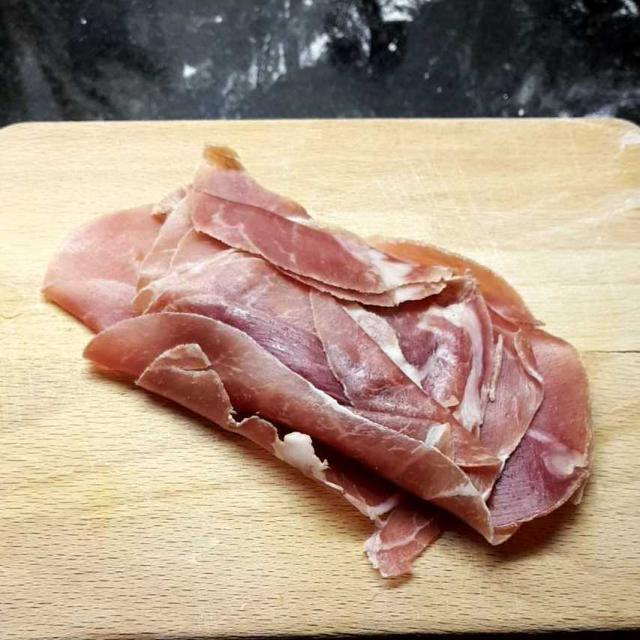ham: (54, 156, 592, 569)
